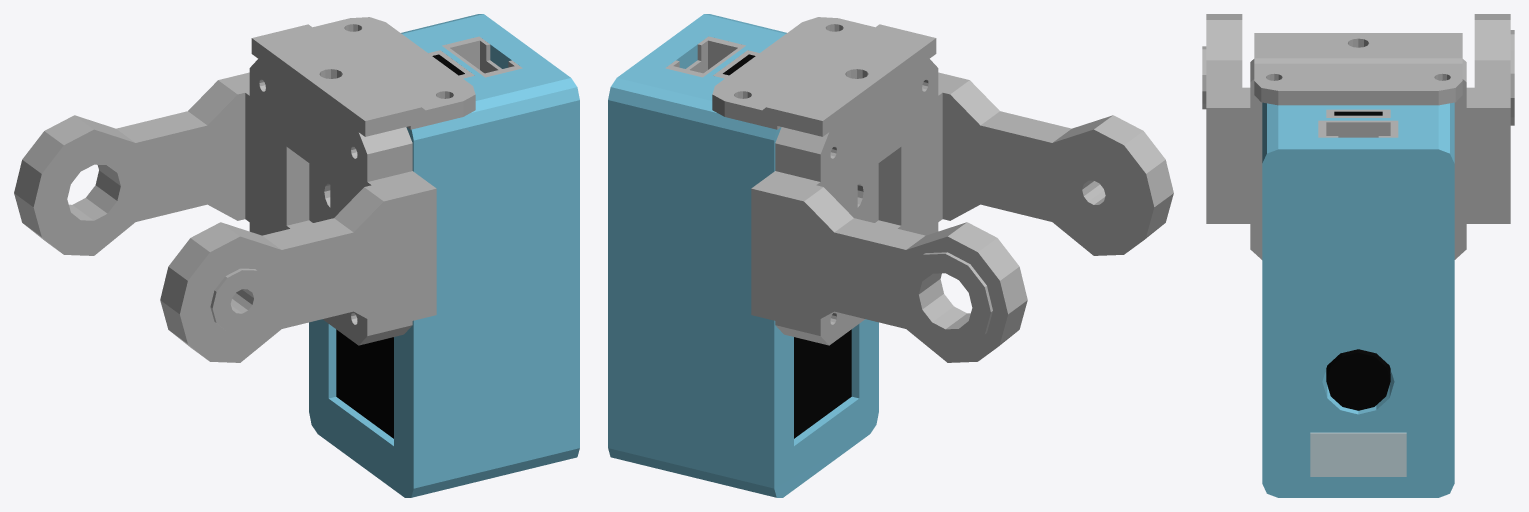
File: head-reye-y_mesh.glb
3 views of the same model, side by side, from view 1: azimuth 30°, elevation 25°; view 2: azimuth 150°, elevation 25°; view 3: azimuth 270°, elevation 25° (orthographic). The views are drawn at different scales.
Visible parts, largest first — view 1: base2_M1KShape4, base2_M1KShape1, base2_M1KShape2, base2_M1KShape0, base2_M1KShape3, base2_M1KShape5, base2_M1KShape8; view 2: base2_M1KShape4, base2_M1KShape2, base2_M1KShape1, base2_M1KShape0, base2_M1KShape3, base2_M1KShape5, base2_M1KShape8; view 3: base2_M1KShape4, base2_M1KShape3, base2_M1KShape2, base2_M1KShape1, base2_M1KShape0, base2_M1KShape7, base2_M1KShape6, base2_M1KShape8, base2_M1KShape9.
Part boxes in pixels (x1=…): base2_M1KShape4: x1=309, y1=14, x2=579, y2=497; base2_M1KShape1: x1=160, y1=171, x2=436, y2=362; base2_M1KShape2: x1=14, y1=72, x2=249, y2=255; base2_M1KShape0: x1=249, y1=59, x2=412, y2=345; base2_M1KShape3: x1=251, y1=17, x2=475, y2=136; base2_M1KShape5: x1=336, y1=329, x2=393, y2=438; base2_M1KShape8: x1=442, y1=36, x2=522, y2=77; base2_M1KShape4: x1=608, y1=14, x2=878, y2=497; base2_M1KShape2: x1=751, y1=171, x2=1027, y2=362; base2_M1KShape1: x1=938, y1=72, x2=1173, y2=255; base2_M1KShape0: x1=775, y1=59, x2=938, y2=345; base2_M1KShape3: x1=712, y1=17, x2=936, y2=136; base2_M1KShape5: x1=794, y1=329, x2=851, y2=438; base2_M1KShape8: x1=665, y1=36, x2=745, y2=77; base2_M1KShape4: x1=1262, y1=102, x2=1454, y2=497; base2_M1KShape3: x1=1254, y1=33, x2=1462, y2=105; base2_M1KShape2: x1=1466, y1=14, x2=1514, y2=223; base2_M1KShape1: x1=1202, y1=14, x2=1250, y2=223; base2_M1KShape0: x1=1250, y1=59, x2=1466, y2=259; base2_M1KShape7: x1=1310, y1=432, x2=1406, y2=476; base2_M1KShape6: x1=1326, y1=349, x2=1390, y2=410; base2_M1KShape8: x1=1318, y1=120, x2=1398, y2=137; base2_M1KShape9: x1=1326, y1=109, x2=1390, y2=117.
Size of the model in its own units: 0.0572 by 0.0505 by 0.039.
